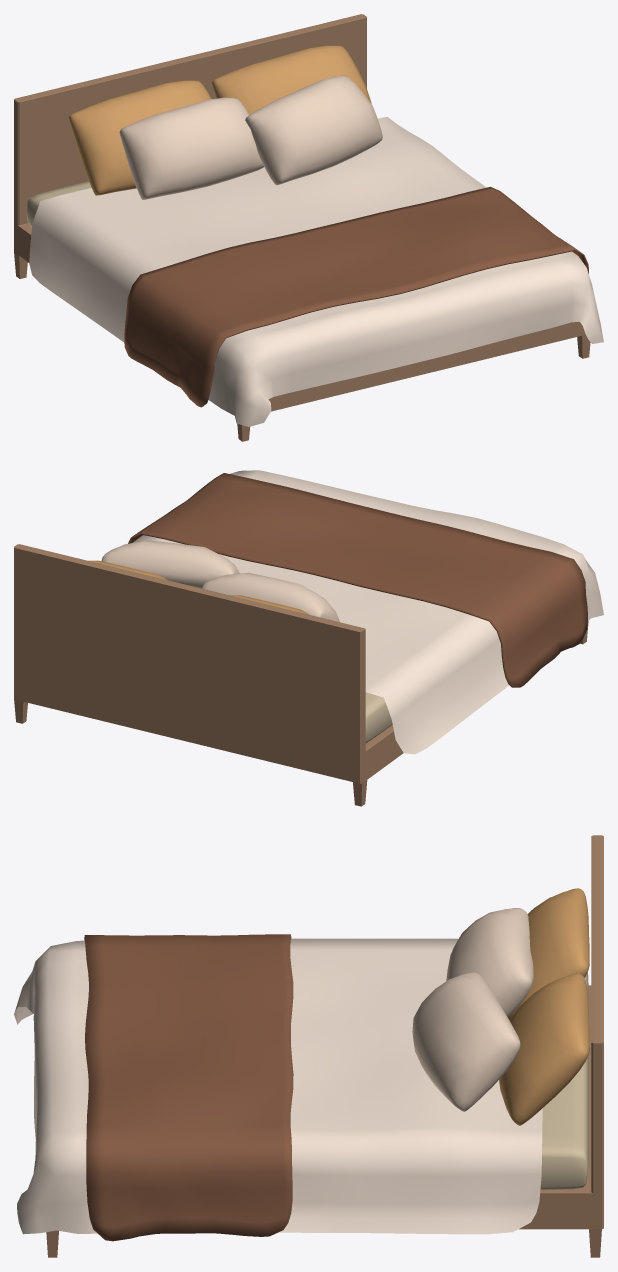
File: Bed.glb
3 views of the same model, one above another, from view 1: azimuth 30°, elevation 25°; view 2: azimuth 150°, elevation 25°; view 3: azimuth 270°, elevation 25° (orthographic). The views are drawn at different scales.
Visible parts, largest first — view 1: Pillow.006; view 2: Pillow.006; view 3: Pillow.006.
Part boxes in pixels (left/top/right/bottom): Pillow.006: left=14, top=14, right=603, bottom=441; Pillow.006: left=14, top=470, right=603, bottom=806; Pillow.006: left=14, top=835, right=603, bottom=1257.
Size of the model in its own units: 2.2 by 0.9414 by 2.34.
Materials: 6 (1 with a texture image).
